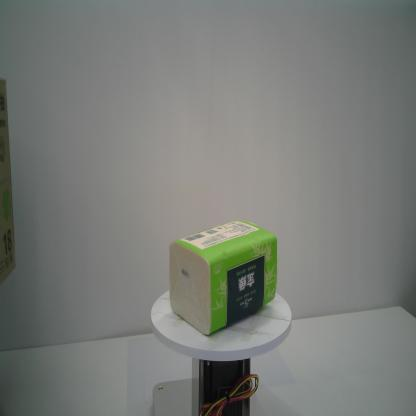Tissue: (168, 217, 279, 336)
